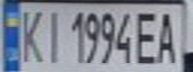1: (63, 7, 84, 64)
4: (115, 8, 136, 65)
9: (97, 7, 118, 65), (81, 7, 100, 64)
A: (151, 7, 181, 65)
E: (133, 7, 163, 65)
I: (39, 6, 66, 64)
K: (15, 6, 48, 64)
